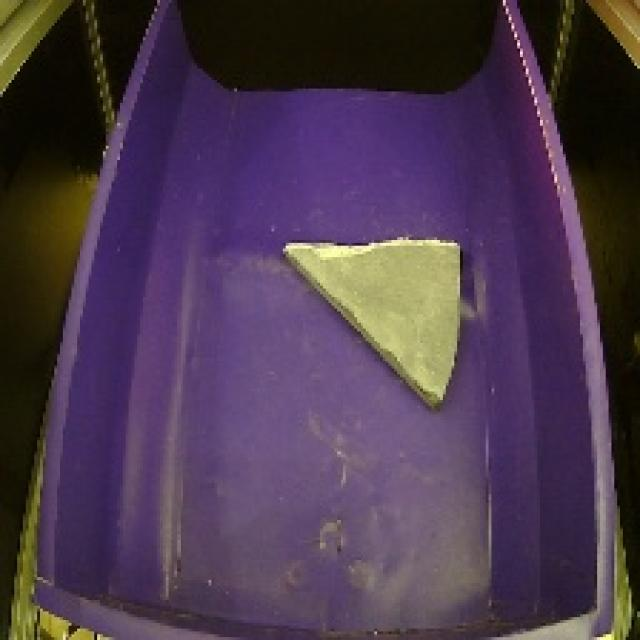china: (274, 224, 470, 414)
